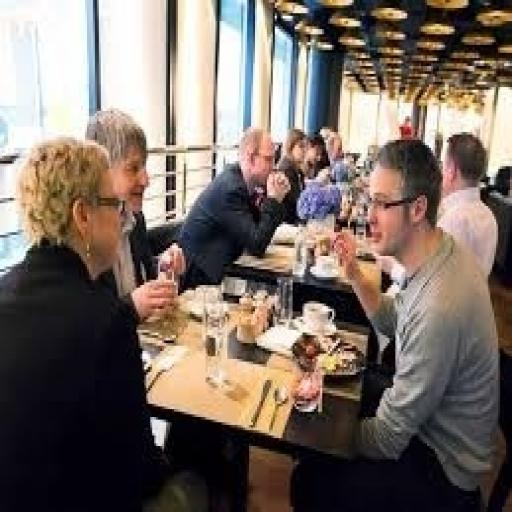eating: (0, 100, 508, 510)
